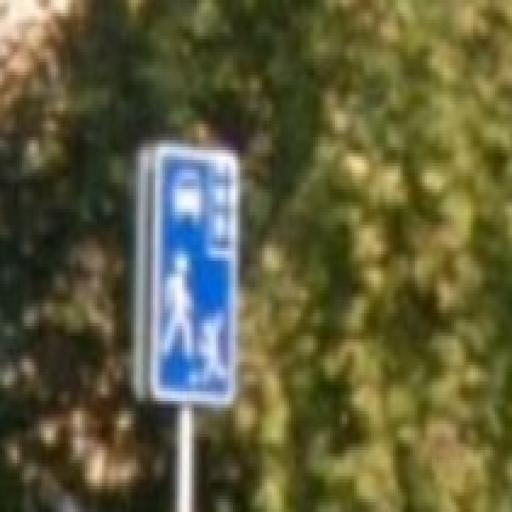traffic_sign: (151, 145, 239, 409)
